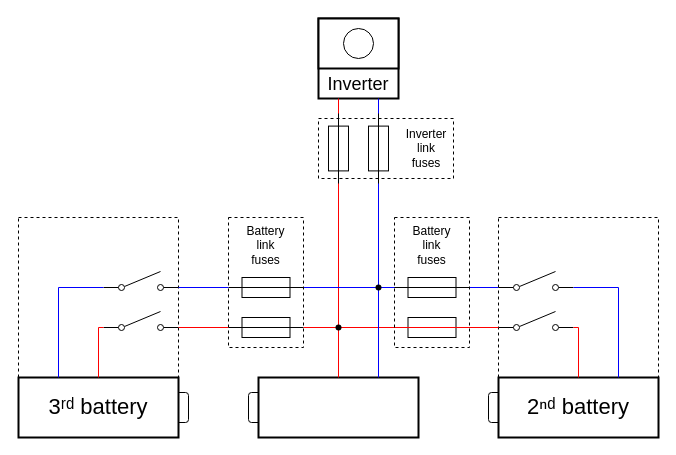
Image size: 676x455. Some labels were removed from this diagram. The box of each missing label's shape, as (x1, y1, x2, y2) in pixels:
2ⁿᵈ battery contactor control via GPIO: (498, 216, 658, 438)
3ʳᵈ battery contactor control via GPIO: (18, 216, 178, 438)
Battery: (257, 376, 419, 438)
